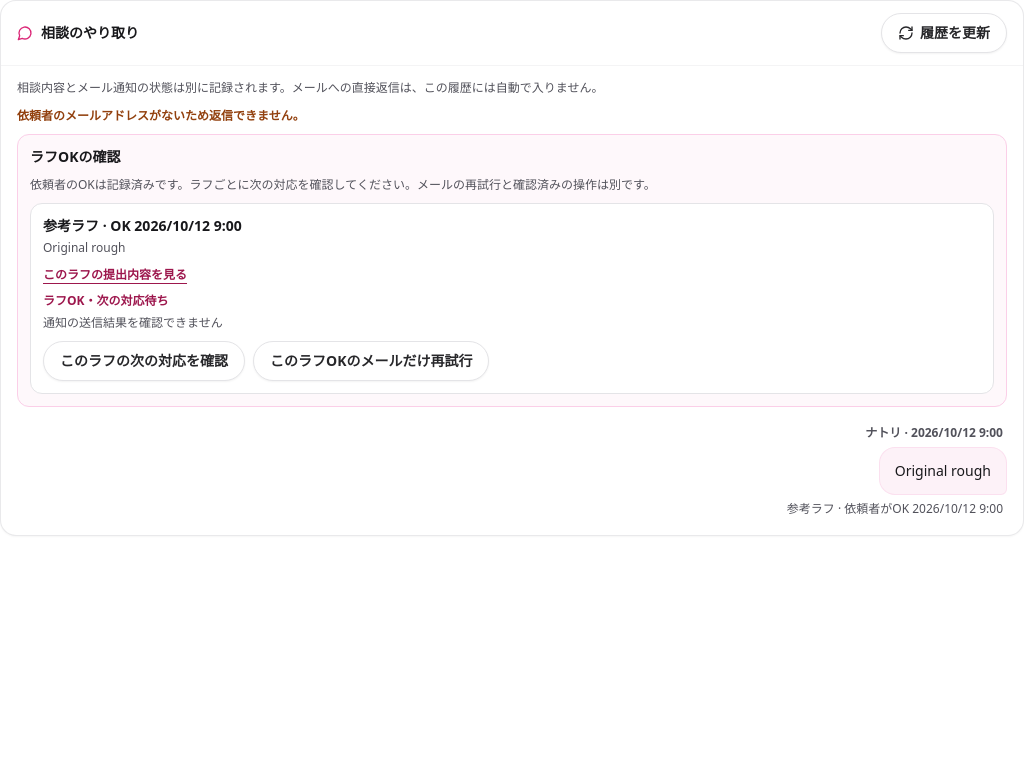
Test: staff rough acknowledgement integration › malformed acknowledgement result cannot clear attention 0
This screenshot has width=1024, height=768.
Click the button "このラフの次の対応を確認" at (144, 360), box [43,340,245,380]
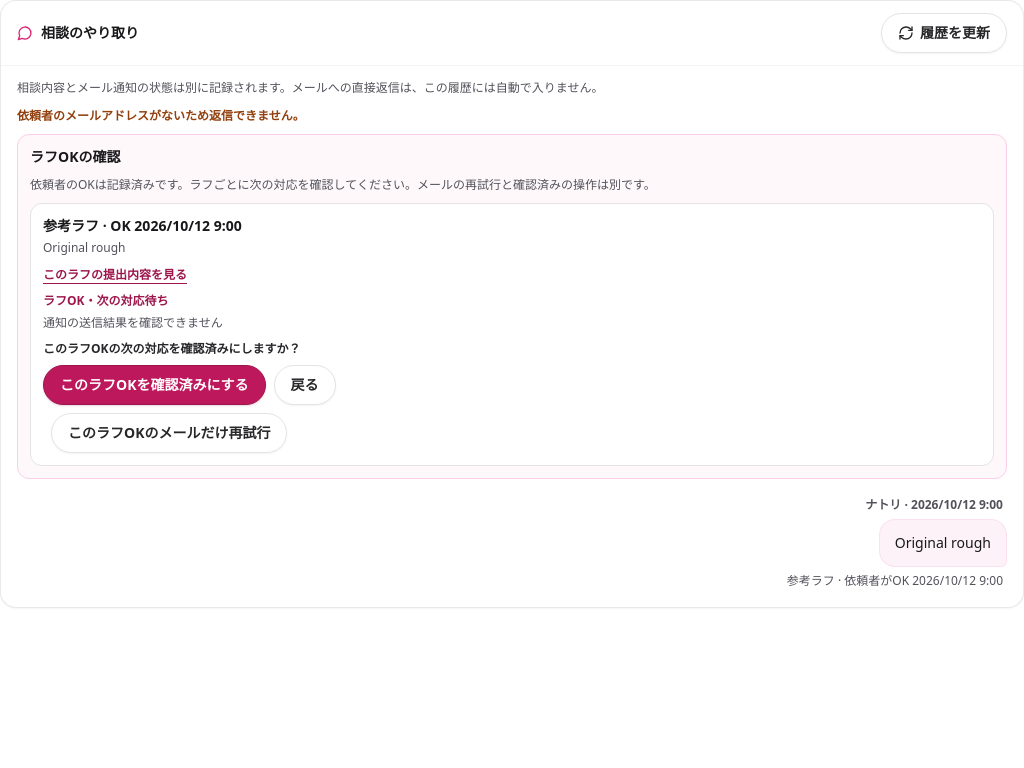
Click the button "このラフOKを確認済みにする" at (154, 384), box [43,364,266,404]
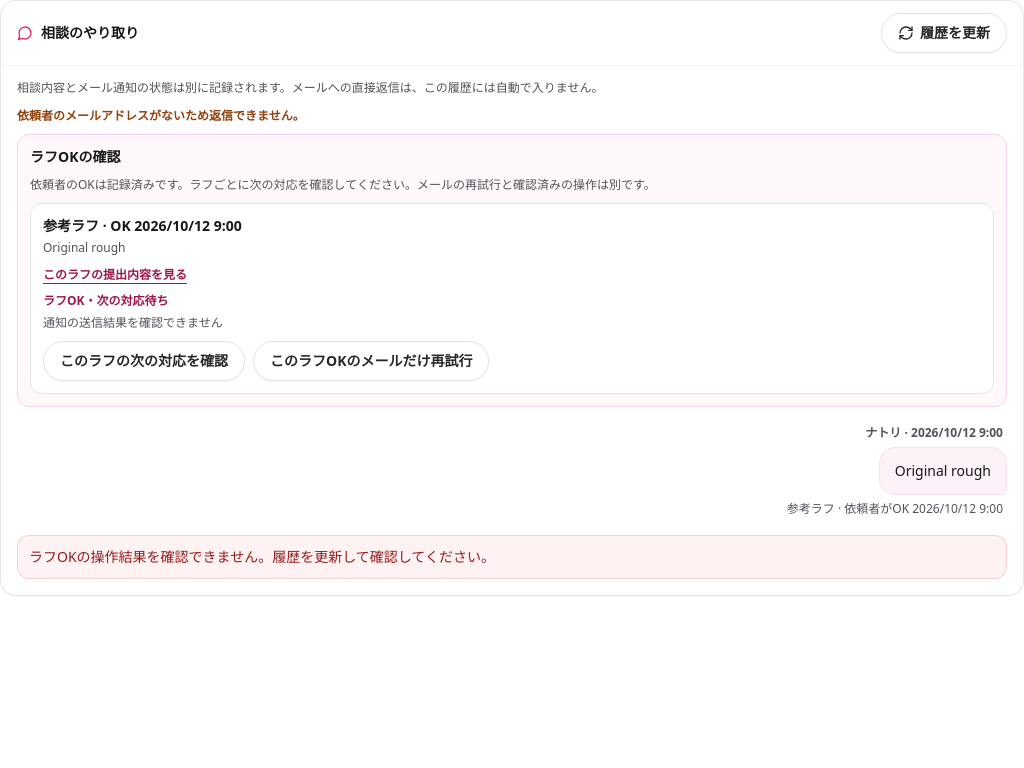
Expected: the text "ラフOK・次の対応待ち" is shown, [43,292,168,308]
Now the message shows "操作結果を確認できません", box [29,546,495,566]
